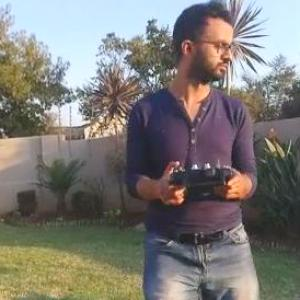follow: (123, 0, 262, 299)
